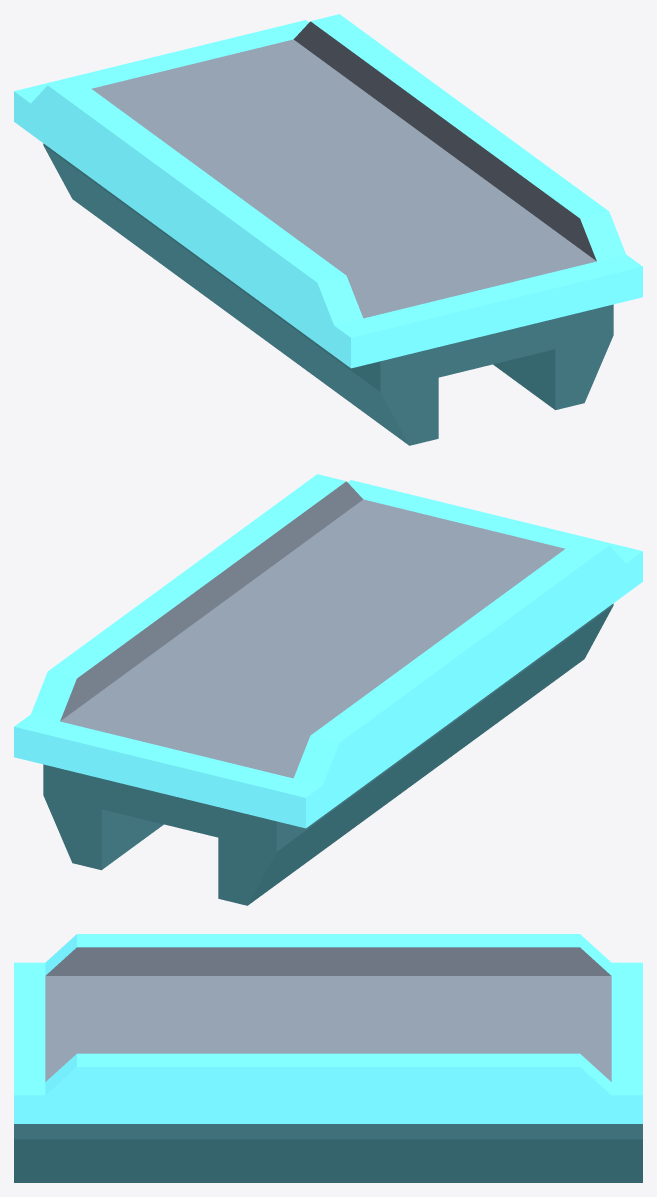
Rendered from monorail_trainFlat.glb.
3 renders of one model, top to bottom at view 1: azimuth 30°, elevation 25°; view 2: azimuth 150°, elevation 25°; view 3: azimuth 270°, elevation 25°, orthographic. The views are drawn at different scales.
Visible parts, largest first — view 1: monorail_trainFlat; view 2: monorail_trainFlat; view 3: monorail_trainFlat.
Part boxes in pixels (x1=…): monorail_trainFlat: x1=14, y1=14, x2=642, y2=445; monorail_trainFlat: x1=14, y1=474, x2=642, y2=905; monorail_trainFlat: x1=14, y1=934, x2=642, y2=1182.
Bounding box in the file's own units: 0.5 × 0.25 × 1.
